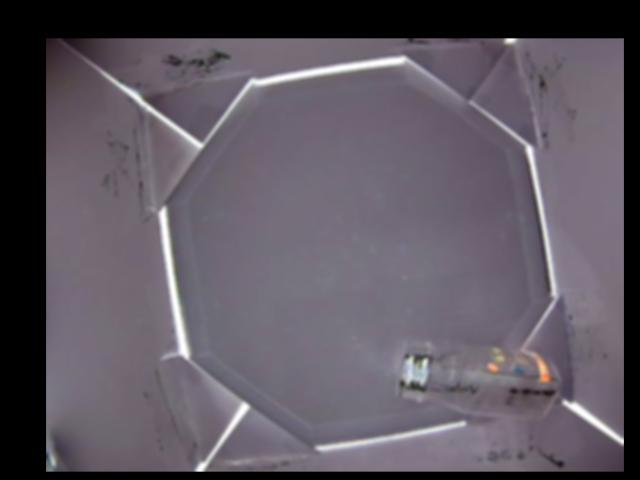Bottle: (393, 339, 562, 422)
